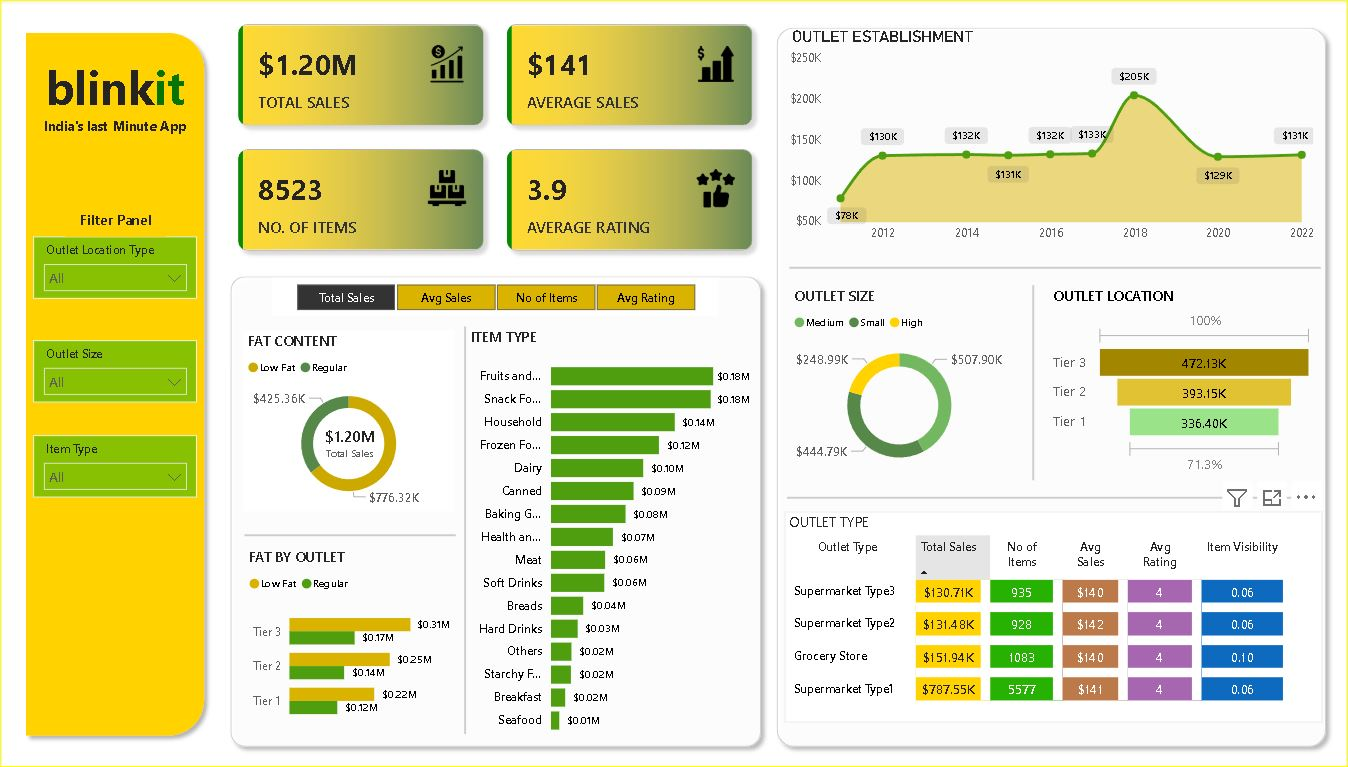

The page's visual inventory and layout, read from the dashboard file:
{"tool":"powerbi","page":{"name":"Page 1","canvas":[1400,800],"ordinal":0},"visuals":[{"type":"shape","box":[15,25.5,204.1,750.4],"z":0},{"type":"textbox","box":[33,54,171.1,102.1],"z":1000},{"type":"textbox","box":[267.2,25.5,204.1,51],"z":2000},{"type":"cardVisual","fields":{"Data":["BlinkIT Grocery Data.Total Sales","BlinkIT Grocery Data.Avg Sales","BlinkIT Grocery Data.No of Items","BlinkIT Grocery Data.Avg Rating"]},"box":[229.2,9.1,570.3,270.8],"z":3000},{"type":"shape","box":[229.2,280,570.3,507.8],"z":4000},{"type":"donutChart","title":"FAT CONTENT","fields":{"Y":["BlinkIT Grocery Data.Total Sales"],"Category":["BlinkIT Grocery Data.Item Fat Content"]},"box":[251.3,345.1,220.1,188.8],"z":5000},{"type":"slicer","fields":{"Values":["Metrics.Metrics"]},"box":[281.3,290.4,464.9,40.4],"z":6000},{"type":"cardVisual","fields":{"Data":["BlinkIT Grocery Data.Total Sales"]},"box":[309.9,420.6,105.5,80.7],"z":7000},{"type":"clusteredBarChart","title":"FAT BY OUTLET","fields":{"Y":["BlinkIT Grocery Data.Total Sales"],"Category":["BlinkIT Grocery Data.Outlet Location Type"],"Series":["BlinkIT Grocery Data.Item Fat Content"]},"box":[252.6,570.3,220.1,195.3],"z":8000},{"type":"shape","box":[252.6,540.4,220.1,36.5],"z":9000},{"type":"shape","box":[471.4,341.2,22.1,424.5],"z":10000},{"type":"barChart","title":"ITEM TYPE","fields":{"Y":["BlinkIT Grocery Data.Total Sales"],"Category":["BlinkIT Grocery Data.Item Type"]},"box":[483.1,341.2,302.1,434.9],"z":11000},{"type":"shape","box":[798.2,20.8,589.9,766.9],"z":12000},{"type":"lineChart","title":"OUTLET ESTABLISHMENT","fields":{"Category":["BlinkIT Grocery Data.Outlet Establishment Year"],"Y":["BlinkIT Grocery Data.Total Sales"]},"box":[817.7,28.6,553.4,233.1],"z":13000},{"type":"shape","box":[820.3,261.7,553.4,36.5],"z":14000},{"type":"donutChart","title":"OUTLET SIZE","fields":{"Y":["BlinkIT Grocery Data.Total Sales"],"Category":["BlinkIT Grocery Data.Outlet Size"]},"box":[820.3,298.2,229.2,203.1],"z":15000},{"type":"shape","box":[1067.7,298.2,13,203.1],"z":16000},{"type":"funnel","title":"OUTLET LOCATION","fields":{"Y":["Sum(BlinkIT Grocery Data.Sales)"],"Category":["BlinkIT Grocery Data.Outlet Location Type"]},"box":[1089.9,298.2,281.3,203.1],"z":17000},{"type":"shape","box":[817.7,501.3,553.4,36.5],"z":18000},{"type":"pivotTable","title":"OUTLET TYPE","fields":{"Rows":["BlinkIT Grocery Data.Outlet Type"],"Values":["BlinkIT Grocery Data.Total Sales","BlinkIT Grocery Data.No of Items","BlinkIT Grocery Data.Avg Sales","BlinkIT Grocery Data.Avg Rating","Avg(BlinkIT Grocery Data.Item Visibility)"]},"box":[815.1,533.9,559.9,220.1],"z":19000},{"type":"slicer","fields":{"Values":["BlinkIT Grocery Data.Outlet Location Type"]},"box":[32.6,247.4,170.6,65.1],"z":20000},{"type":"slicer","fields":{"Values":["BlinkIT Grocery Data.Outlet Size"]},"box":[32.6,355.5,170.6,65.1],"z":21000},{"type":"slicer","fields":{"Values":["BlinkIT Grocery Data.Item Type"]},"box":[32.6,454.4,170.6,65.1],"z":22000},{"type":"textbox","box":[66.4,214.8,104.2,32.6],"z":23000}]}

Visuals, with their boxes in screenshot pixels (x1, y1, x2, y2), scaled from the page's 1400x800 canvas onto the 1348x767 screenshot:
shape: BBox(14, 24, 211, 744)
textbox: BBox(32, 52, 197, 150)
textbox: BBox(257, 24, 454, 73)
cardVisual - BlinkIT Grocery Data.Total Sales x BlinkIT Grocery Data.Avg Sales: BBox(221, 9, 770, 268)
shape: BBox(221, 268, 770, 755)
"FAT CONTENT" donutChart: BBox(242, 331, 454, 512)
slicer - Metrics.Metrics: BBox(271, 278, 718, 317)
cardVisual - BlinkIT Grocery Data.Total Sales: BBox(298, 403, 400, 481)
"FAT BY OUTLET" clusteredBarChart: BBox(243, 547, 455, 734)
shape: BBox(243, 518, 455, 553)
shape: BBox(454, 327, 475, 734)
"ITEM TYPE" barChart: BBox(465, 327, 756, 744)
shape: BBox(769, 20, 1337, 755)
"OUTLET ESTABLISHMENT" lineChart: BBox(787, 27, 1320, 251)
shape: BBox(790, 251, 1323, 286)
"OUTLET SIZE" donutChart: BBox(790, 286, 1011, 481)
shape: BBox(1028, 286, 1041, 481)
"OUTLET LOCATION" funnel: BBox(1049, 286, 1320, 481)
shape: BBox(787, 481, 1320, 516)
"OUTLET TYPE" pivotTable: BBox(785, 512, 1324, 723)
slicer - BlinkIT Grocery Data.Outlet Location Type: BBox(31, 237, 196, 300)
slicer - BlinkIT Grocery Data.Outlet Size: BBox(31, 341, 196, 403)
slicer - BlinkIT Grocery Data.Item Type: BBox(31, 436, 196, 498)
textbox: BBox(64, 206, 164, 237)
